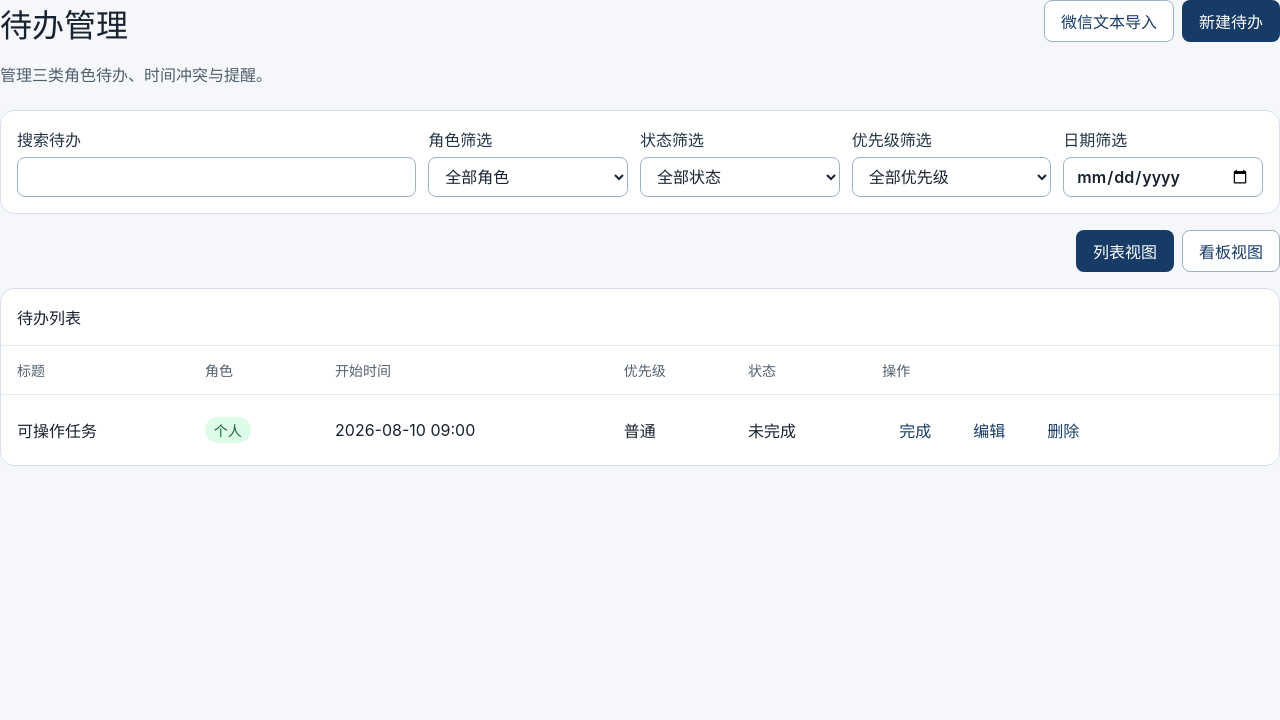
it: TodoPage › completes, restores, and deletes a todo
Expected: the text "可操作任务" is shown, [17, 421, 97, 441]
Click the button with aria-label "完成可操作任务" at (915, 430), box [882, 409, 948, 451]
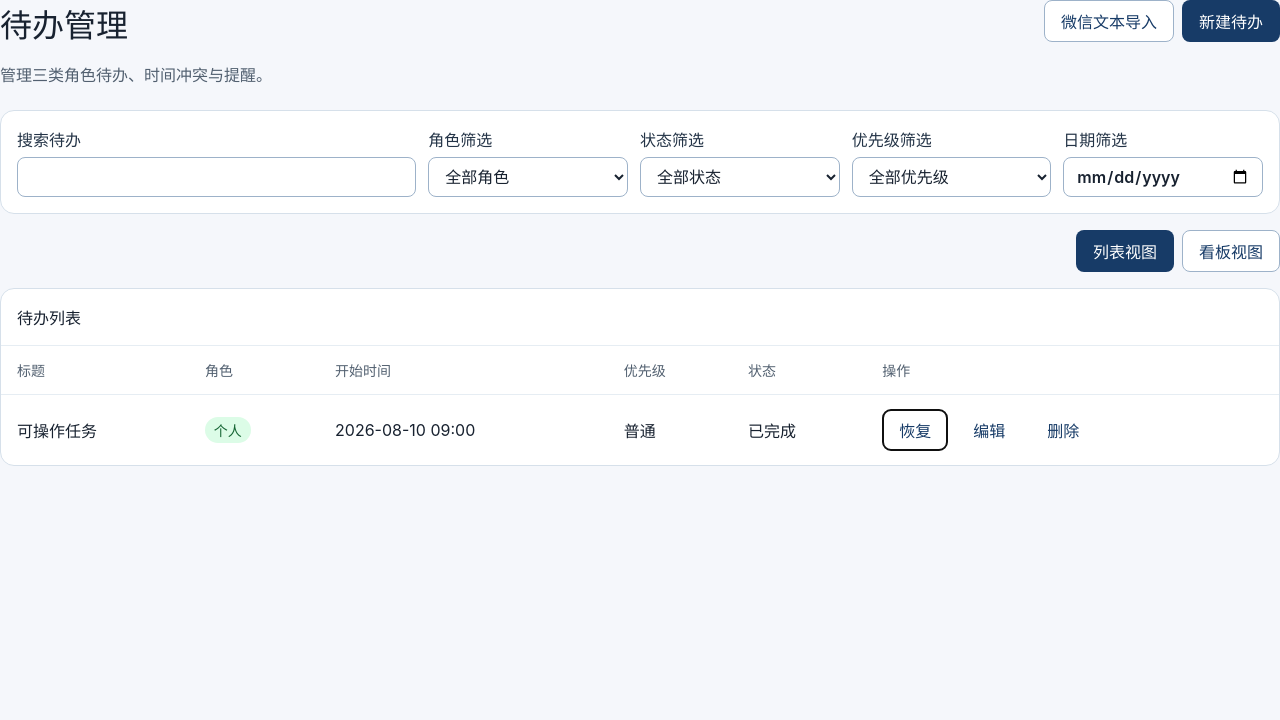
Now the button with aria-label "恢复可操作任务" is shown
Click the button with aria-label "恢复可操作任务" at (915, 430), box [882, 409, 948, 451]
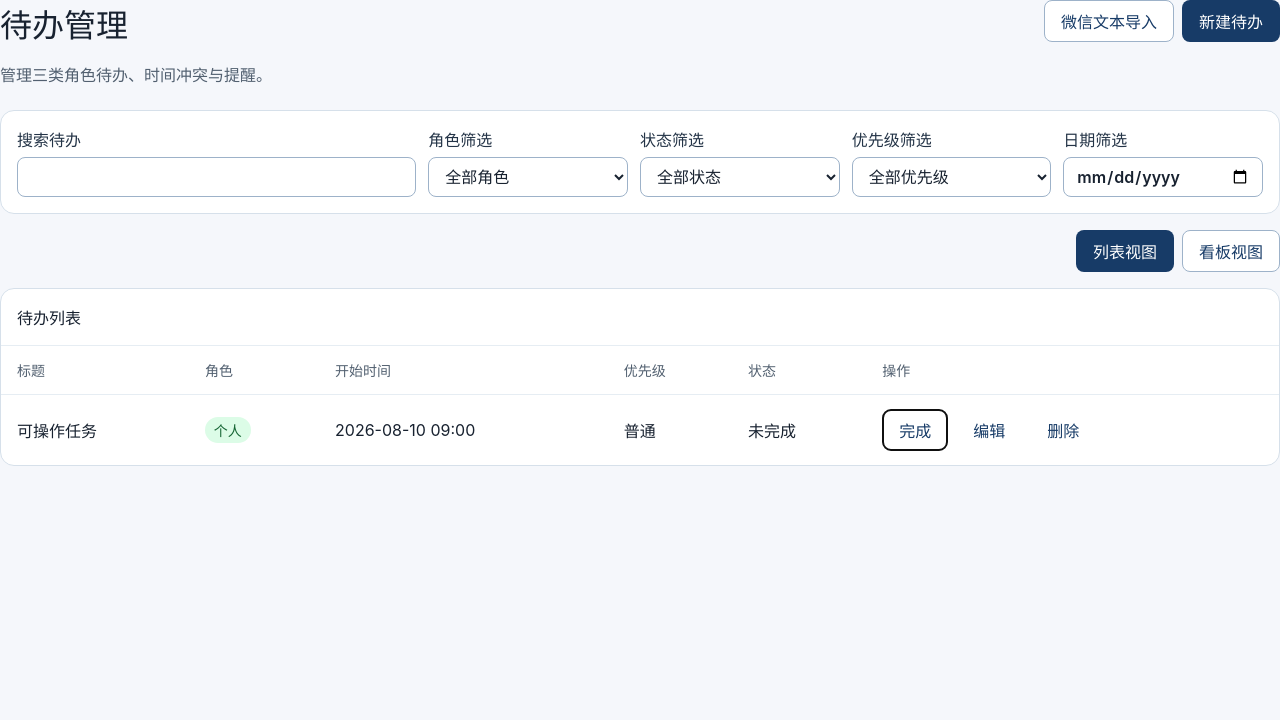
Now the button with aria-label "完成可操作任务" is shown, box [882, 409, 948, 451]
Click the button with aria-label "删除可操作任务" at (1063, 430), box [1030, 409, 1096, 451]
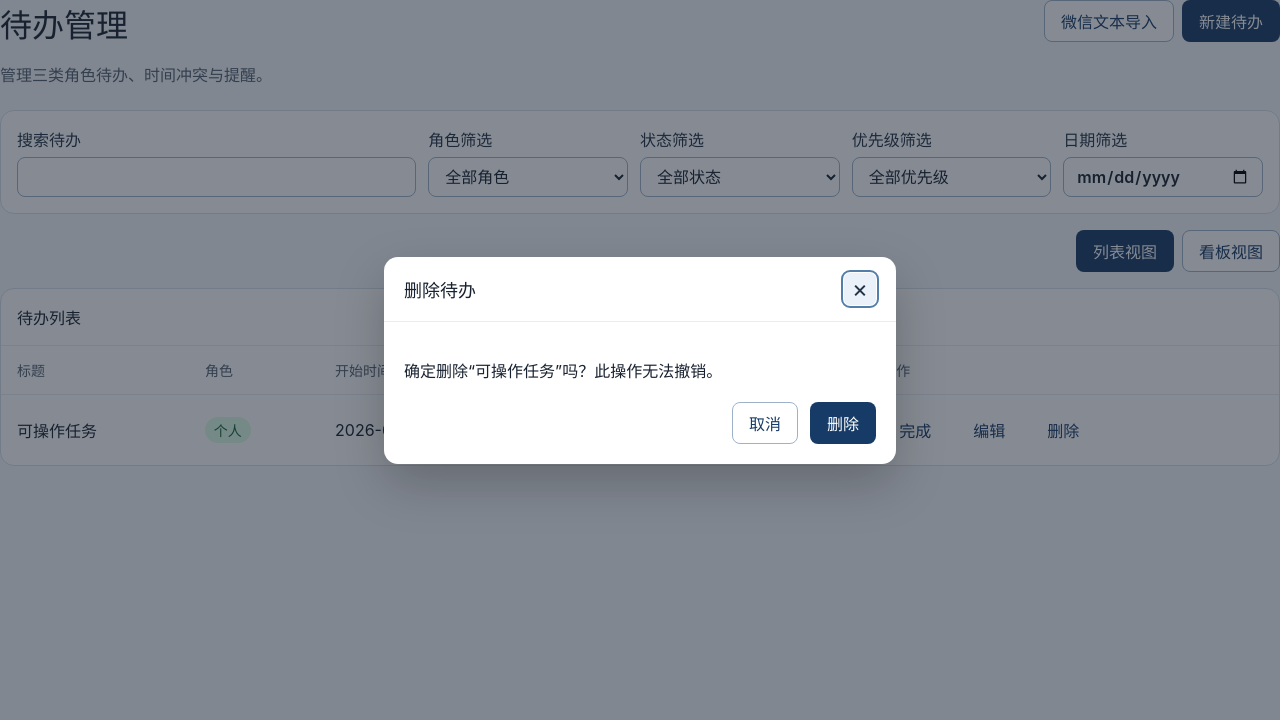
Click the button "删除" at (843, 422), box [810, 402, 876, 444]
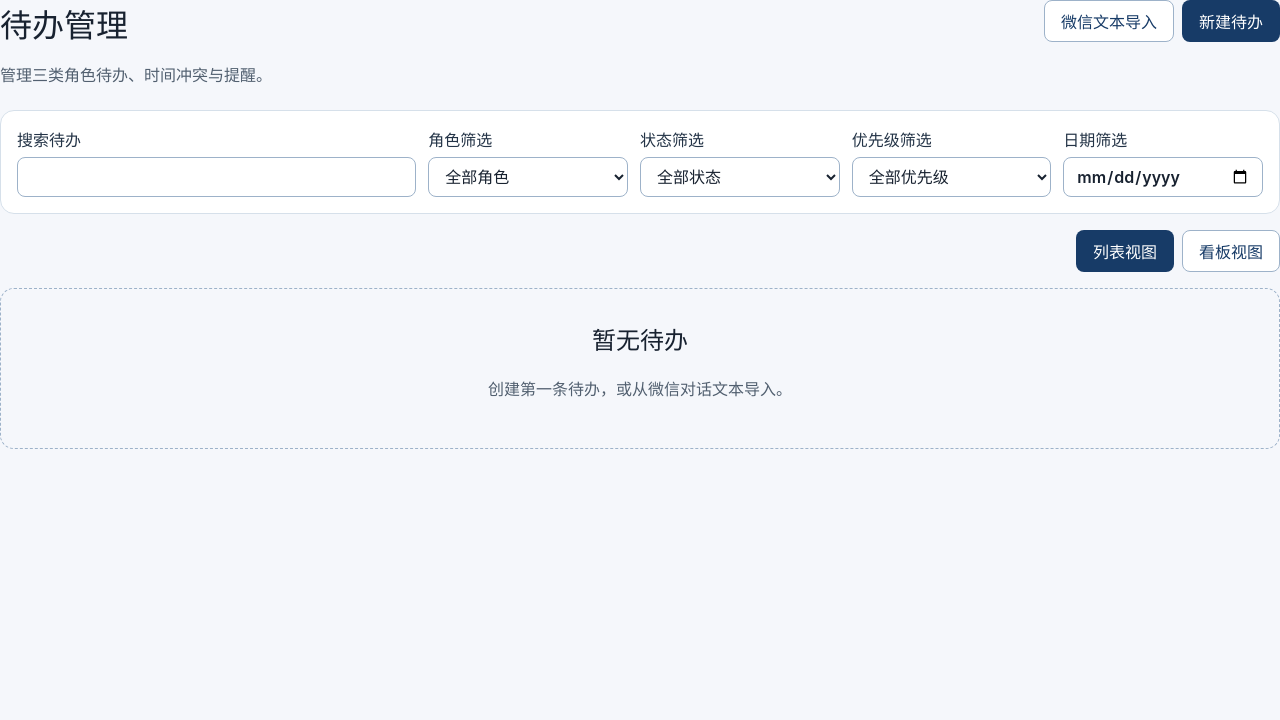
Now the heading "暂无待办" is shown, box [592, 326, 688, 355]
